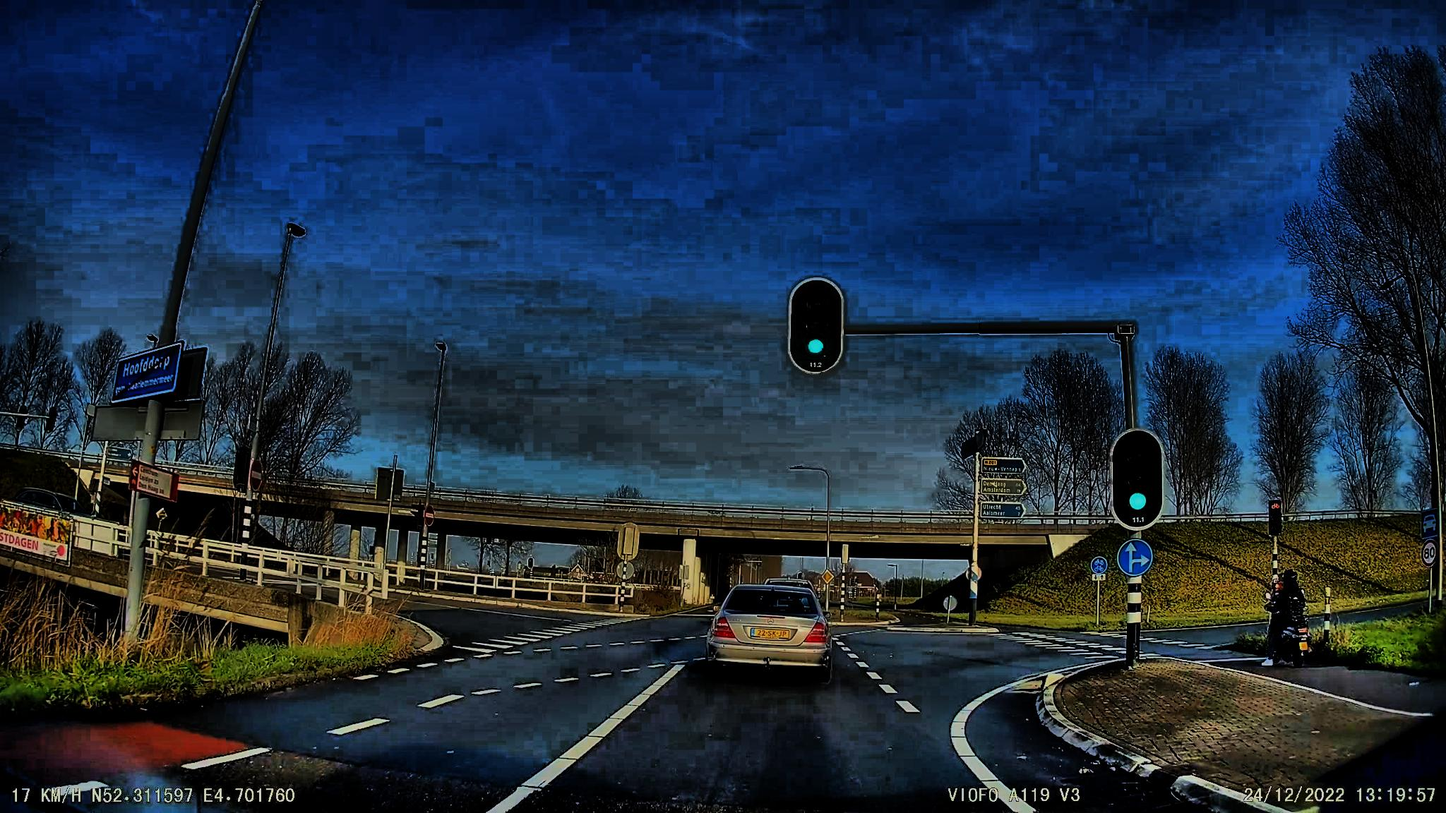Roads: (0, 613, 1248, 813)
